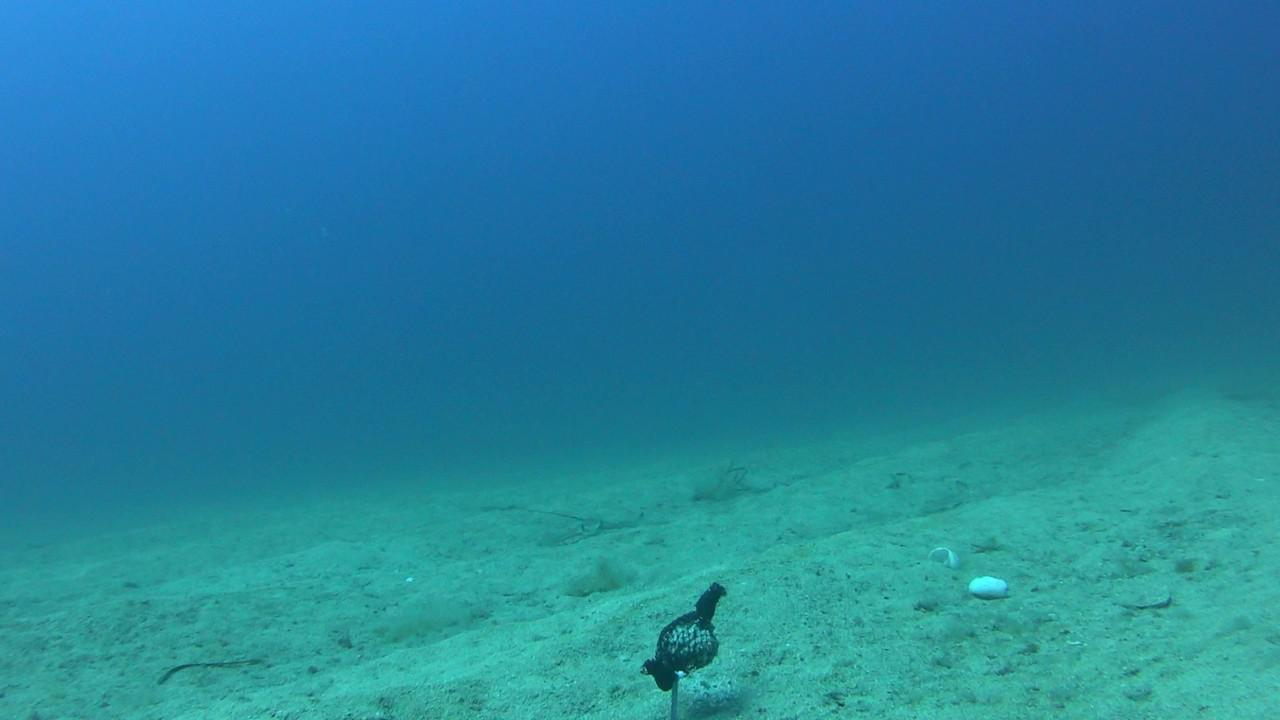myliobatis: (490, 472, 661, 558)
